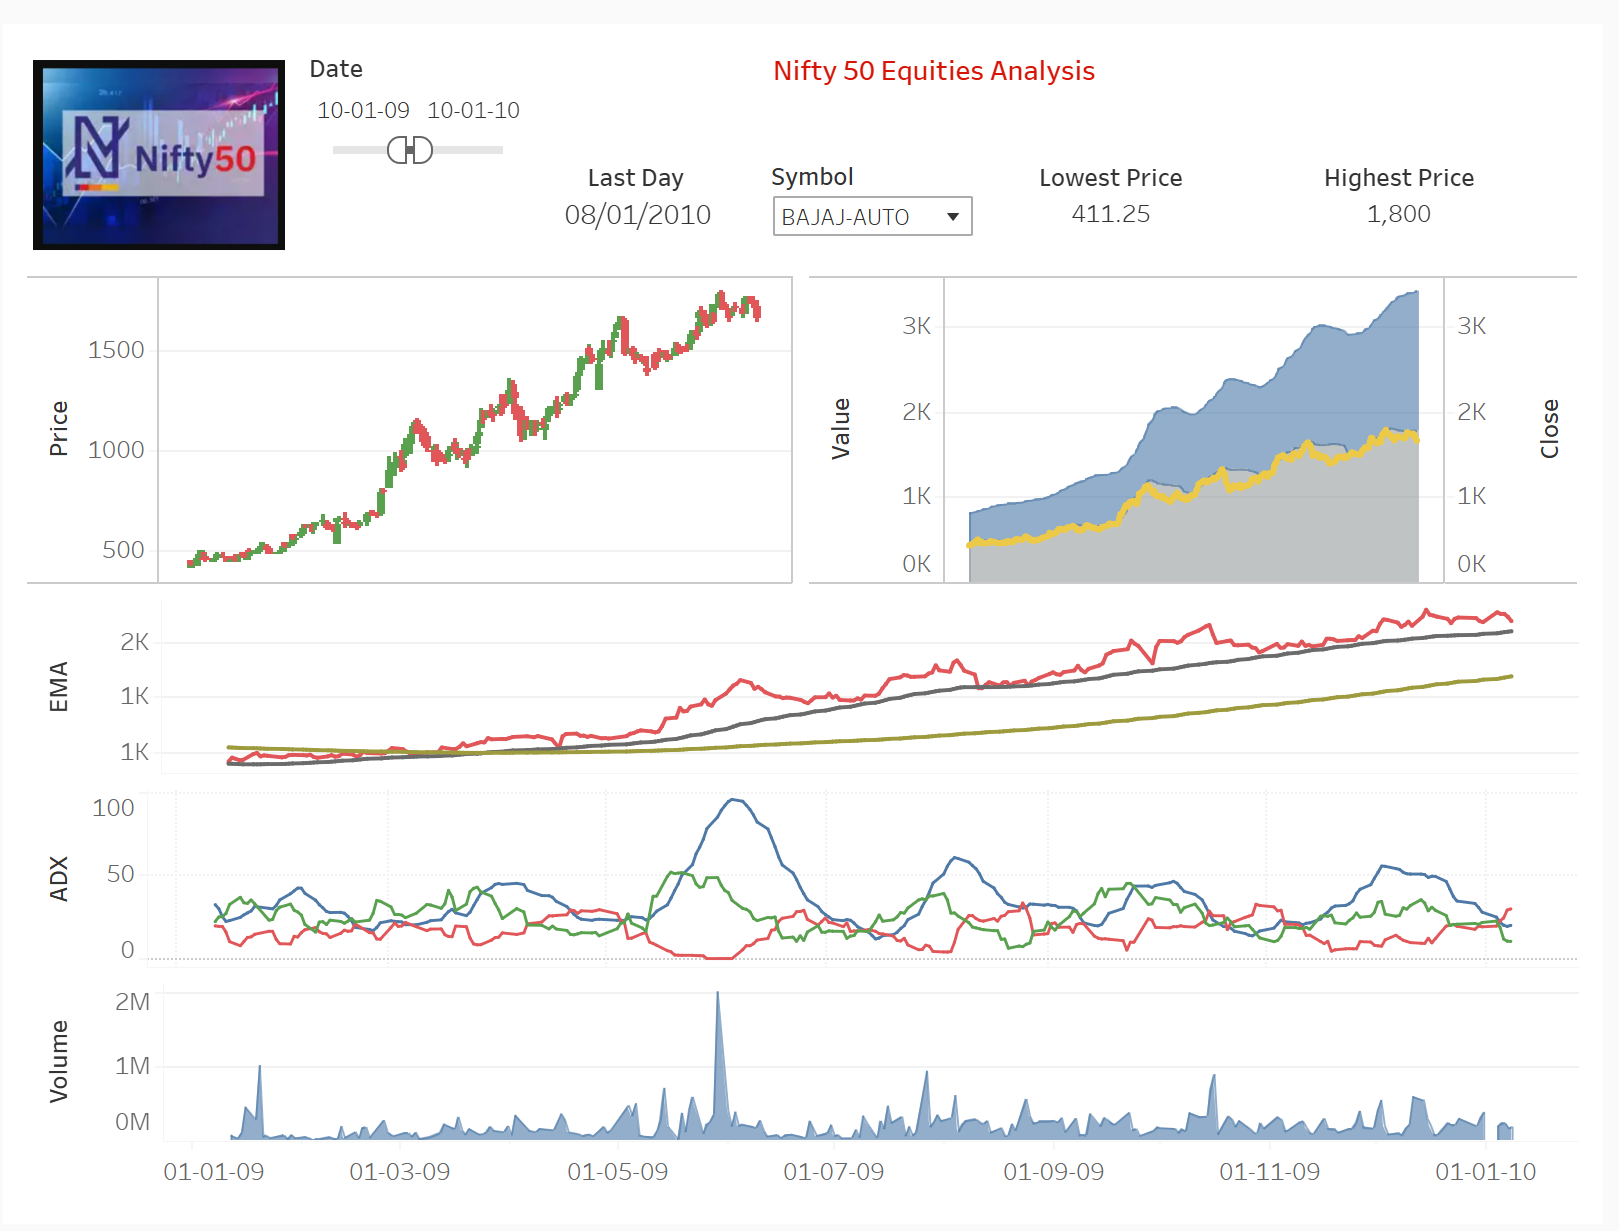

Layout of this report page (visuals, bound fields, positions):
{"tool":"tableau","page":{"name":"Dashboard ","canvas":[1000,1000],"units":"permille","ordinal":0},"visuals":[{"type":"worksheet","title":"Sheet 16","mark":"Automatic","box":[695.7,16.1,293.9,90.5]},{"type":"blank","box":[10.4,18.1,175.6,187.1]},{"type":"filter","title":"ADX Indicator","param":"[federated.1w1xdvb0dvlqdc1gs08961cc1hsm].[none:Date:qk]","box":[186,18.1,146.9,187.1]},{"type":"worksheet","title":"Title","mark":"Automatic","box":[332.9,18.1,362.8,88.5]},{"type":"image","param":"C:/Users/acer/OneDrive/Desktop/Dashboard.twb Files/Image/Screenshot 2025-01-30 1","box":[18.2,26.2,158.7,165]},{"type":"worksheet","title":"Last Day","mark":"Automatic","box":[332.9,106.6,141.7,98.6]},{"type":"filter","title":"Candlestick2","param":"[federated.1w1xdvb0dvlqdc1gs08961cc1hsm].[none:Symbol:nk]","box":[474.6,106.6,137.8,98.6]},{"type":"worksheet","title":"Lowest Price","mark":"Automatic","box":[612.5,106.6,174.3,98.6]},{"type":"worksheet","title":"Highest price","mark":"Automatic","box":[786.7,106.6,202.9,98.6]},{"type":"worksheet","title":"Candlestick2","mark":"GanttBar","rows":["Low","Open"],"cols":["Date"],"box":[10.4,205.2,488.9,268.6]},{"type":"worksheet","title":"Bollinger Strategy","mark":"Automatic","rows":["Close"],"cols":["Date"],"box":[499.3,205.2,490.3,268.6]},{"type":"worksheet","title":"Moving Avg. Open Price","mark":"Automatic","cols":["Date"],"box":[10.4,473.8,979.2,156.6]},{"type":"worksheet","title":"ADX Indicator","mark":"Automatic","cols":["Date"],"box":[10.4,630.5,979.2,160.6]},{"type":"worksheet","title":"Volume","mark":"Area","rows":["Volume"],"cols":["Date"],"box":[10.4,791.1,979.2,192.8]}]}

Visuals, with their boxes on the dashboard's canvas, which has no fixed pixel size, in thousandths of its width and height (x1, y1, x2, y2). These are canvas units, not pixel positions in the 1619x1231 screenshot, which may show the page scaled, cropped or inside an application window:
"Sheet 16" worksheet: <region>696, 16, 990, 107</region>
blank: <region>10, 18, 186, 205</region>
"ADX Indicator" filter: <region>186, 18, 333, 205</region>
"Title" worksheet: <region>333, 18, 696, 107</region>
image: <region>18, 26, 177, 191</region>
"Last Day" worksheet: <region>333, 107, 475, 205</region>
"Candlestick2" filter: <region>475, 107, 612, 205</region>
"Lowest Price" worksheet: <region>612, 107, 787, 205</region>
"Highest price" worksheet: <region>787, 107, 990, 205</region>
"Candlestick2" worksheet (GanttBar marks): <region>10, 205, 499, 474</region>
"Bollinger Strategy" worksheet: <region>499, 205, 990, 474</region>
"Moving Avg. Open Price" worksheet: <region>10, 474, 990, 630</region>
"ADX Indicator" worksheet: <region>10, 630, 990, 791</region>
"Volume" worksheet (Area marks): <region>10, 791, 990, 984</region>
